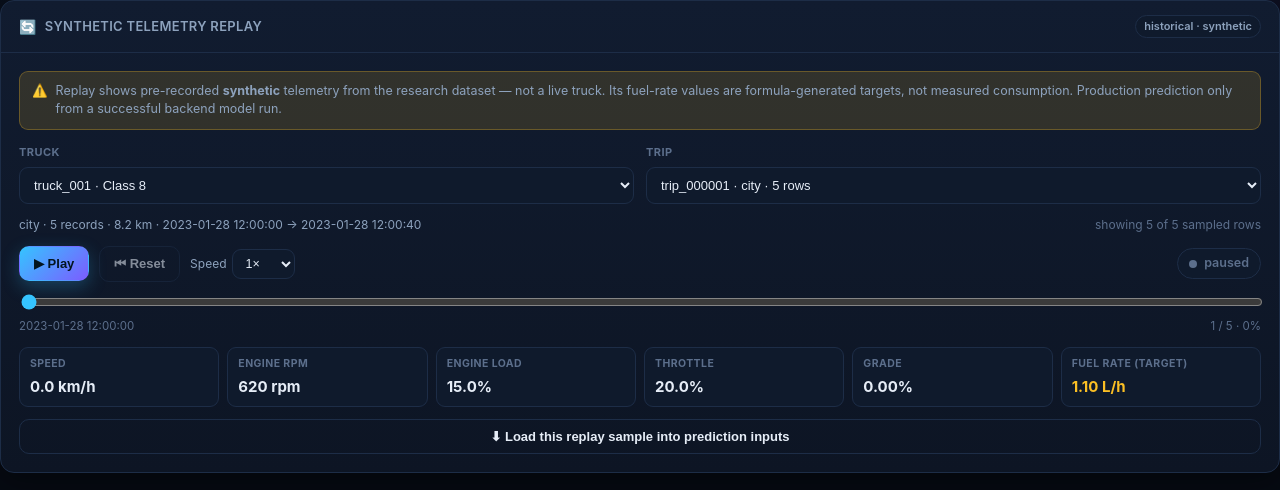
Test: ReplayPanel seek and end-of-trip › seeks to the final position, reports 'trip ended', and stays on the final sample
Set the slider named "Replay timeline seek" to "4" at (1255, 302), box [21, 294, 1263, 310]
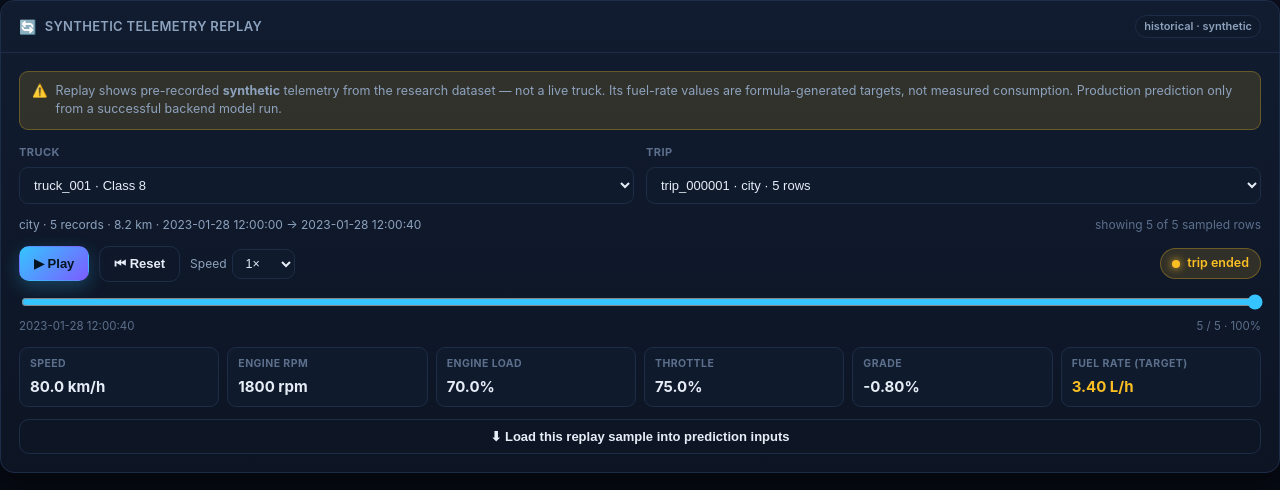
Result: the text "2023-01-28 12:00:40" is shown at [19, 318, 134, 335]
Result: the text "5 / 5 · 100%" is shown at [1196, 318, 1261, 335]
Result: the text "trip ended" is shown at [1160, 248, 1261, 279]
